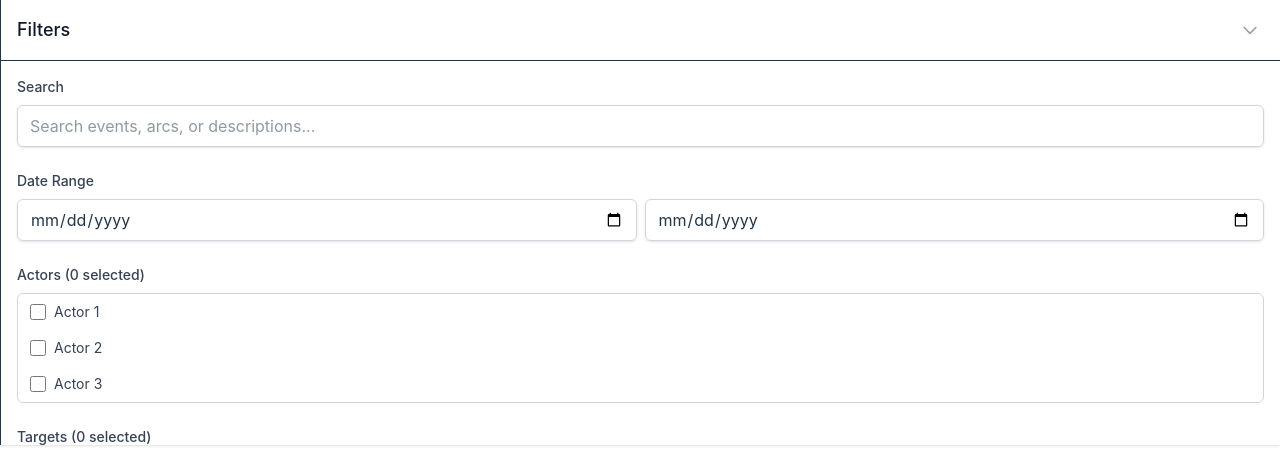
Scenario: FilterPanel › toggles collapse state
The width and height of the screenshot is (1280, 463).
Click the button named "Collapse filters": [1250, 30] box left=1236, top=16, right=1264, bottom=44
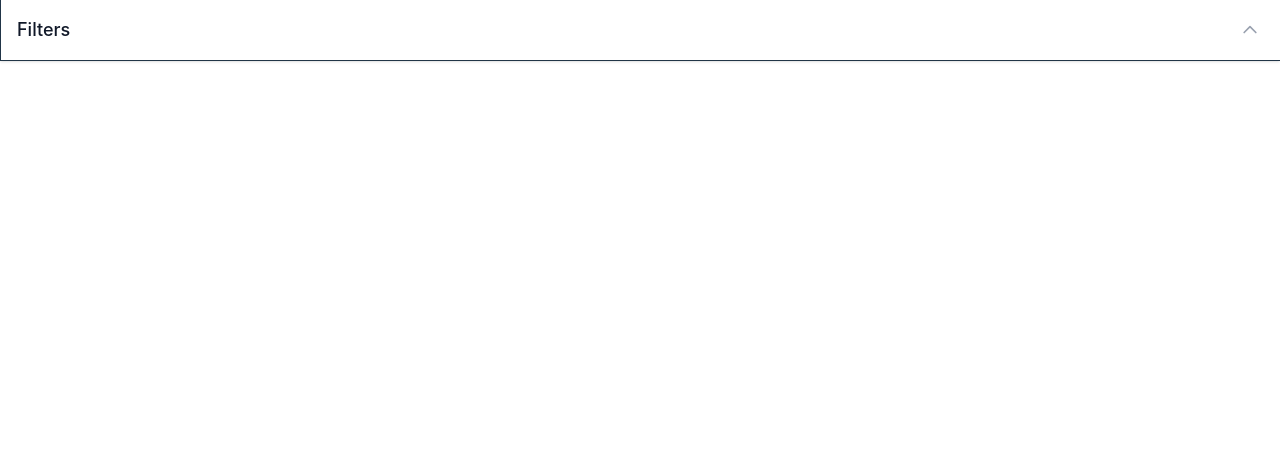
Result: the label labelled "Search" is gone
Result: the button named "Expand filters" is shown at left=1236, top=16, right=1264, bottom=44
